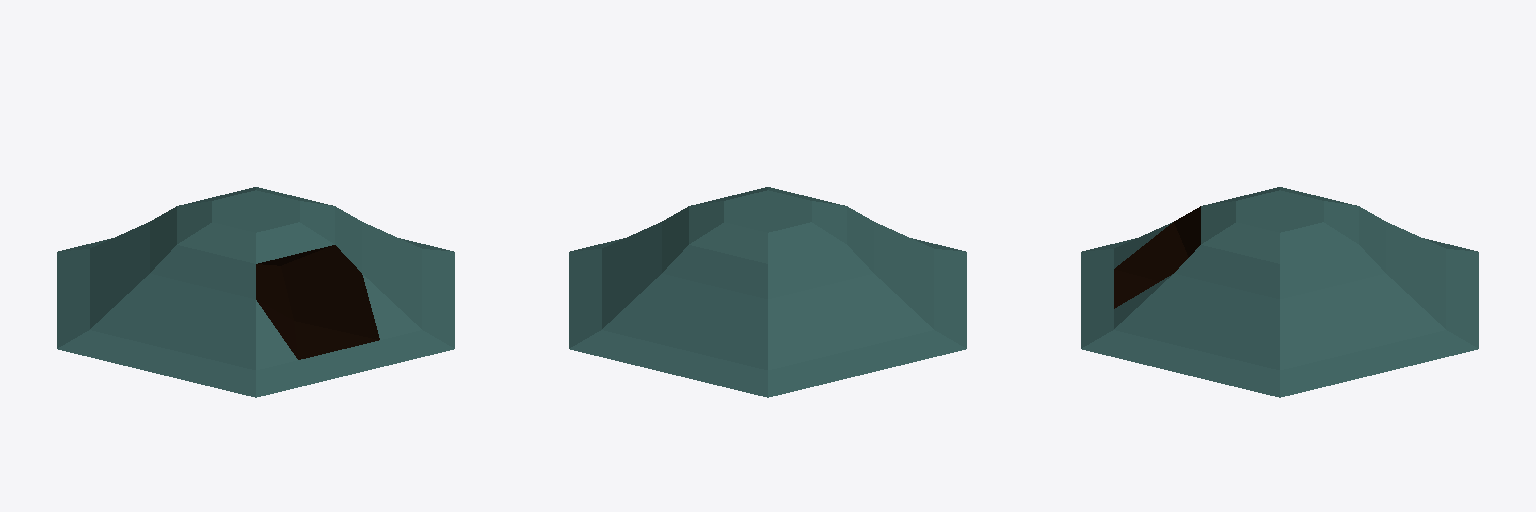
The model's file is rabbit_hole.obj.
3 views of the same model, side by side, from view 1: azimuth 30°, elevation 25°; view 2: azimuth 150°, elevation 25°; view 3: azimuth 270°, elevation 25° (orthographic).
Visible parts, largest first — view 1: Mesh1 Model; view 2: Mesh1 Model; view 3: Mesh1 Model.
Boxes of the visible parts, x1,y1,x2,y2 form: Mesh1 Model: [57, 187, 454, 397]; Mesh1 Model: [569, 187, 966, 397]; Mesh1 Model: [1081, 187, 1478, 397].
Size of the model in its own units: 3.01 by 0.641 by 2.61.